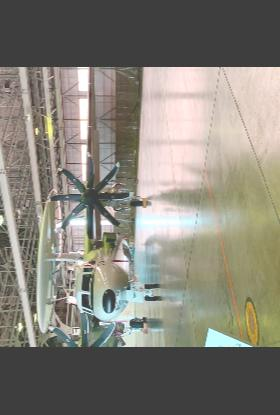C5: (36, 68, 158, 346)
